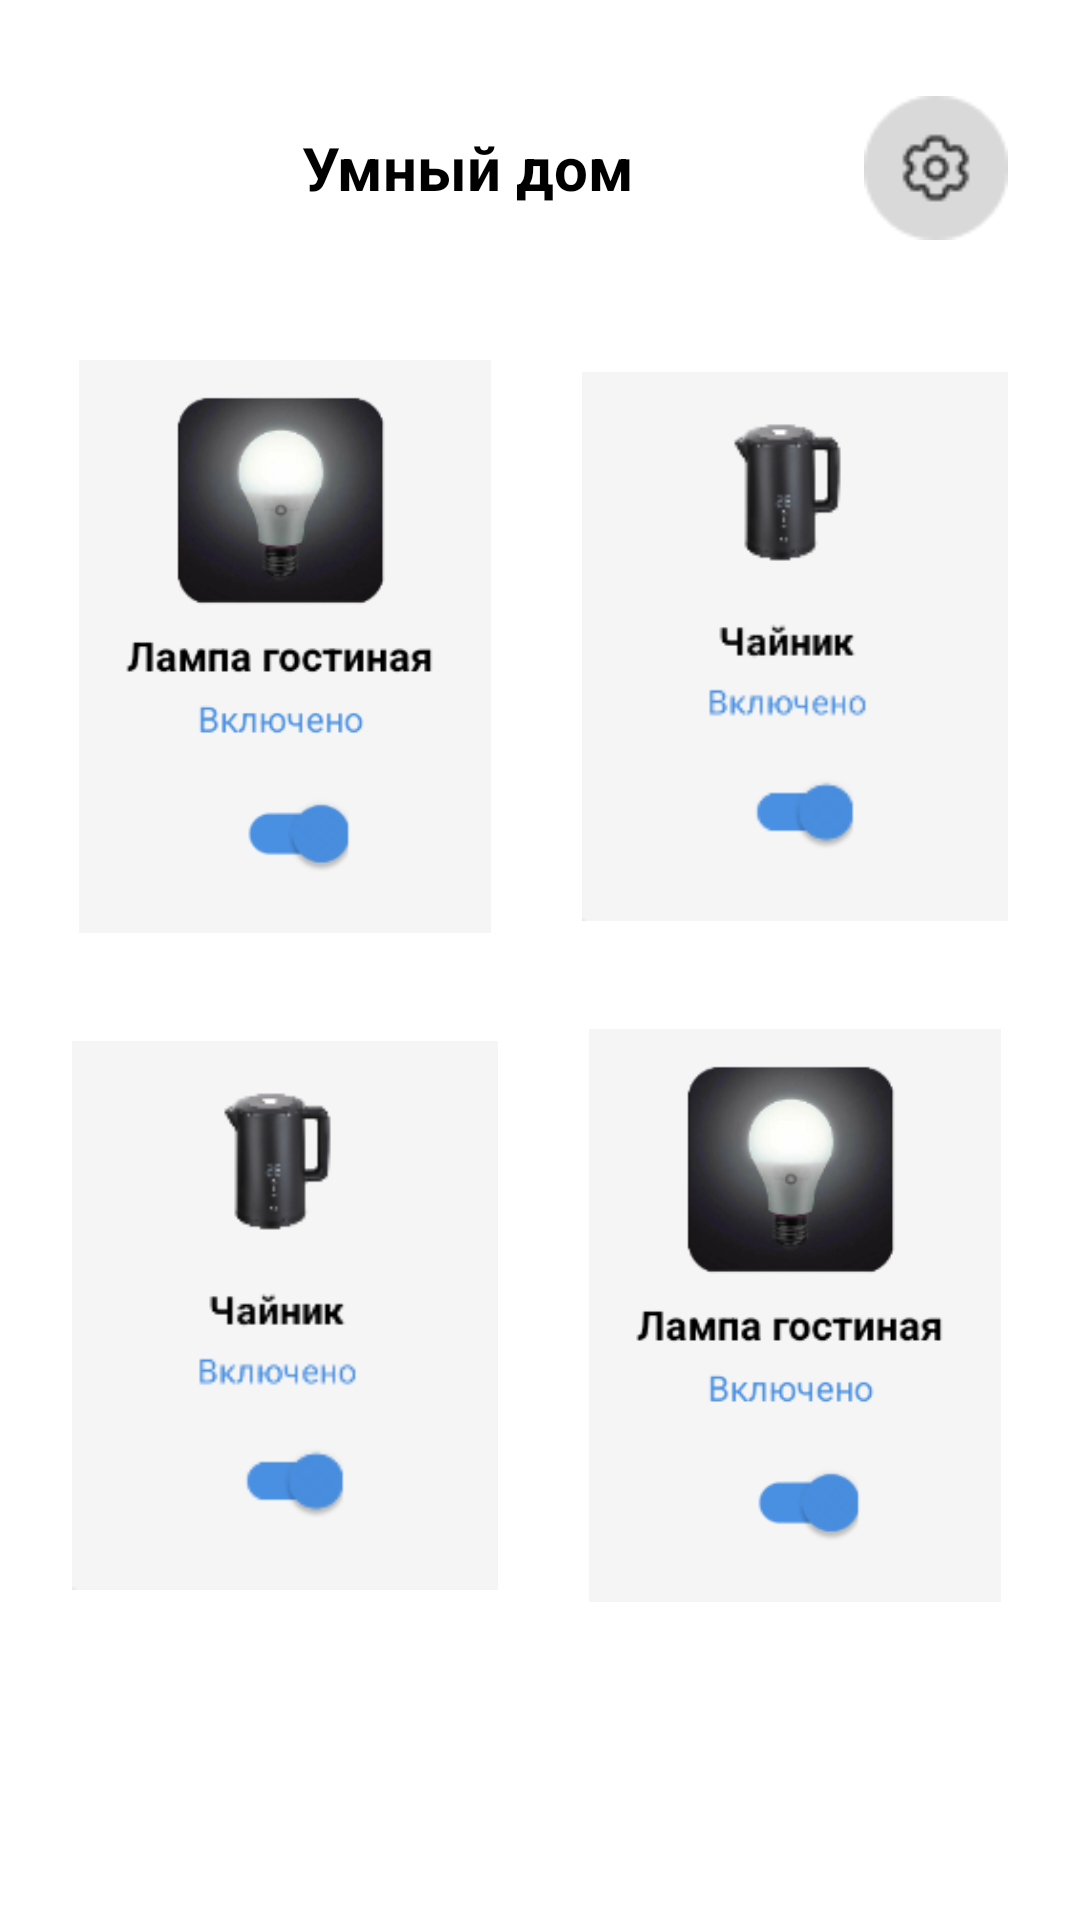

Locate icon controls on the screen. Image size 1080×1920, boxes as [left=x1, top=y1, right=x2, bottom=y2].
settings: [left=864, top=96, right=1008, bottom=240]
